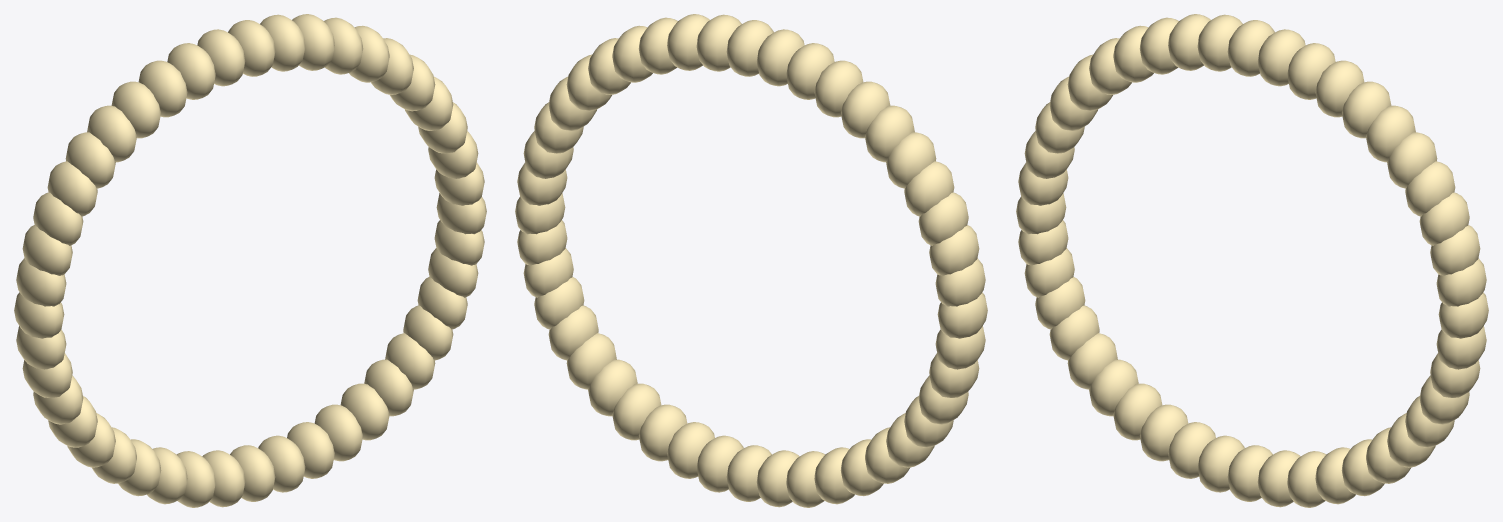
The model's file is goal-clear.glb.
3 renders of one model, left to right at view 1: azimuth 30°, elevation 25°; view 2: azimuth 150°, elevation 25°; view 3: azimuth 330°, elevation 25°, orthographic.
Parts seen in each view (by area): view 1: goal-clear-15, goal-clear-16, goal-clear-14, goal-clear-17, goal-clear-13, goal-clear-18, goal-clear-12, goal-clear-36, goal-clear-37, goal-clear-35, goal-clear-38, goal-clear-19 (+32 smaller); view 2: goal-clear-15, goal-clear-16, goal-clear-14, goal-clear-17, goal-clear-13, goal-clear-18, goal-clear-12, goal-clear-36, goal-clear-37, goal-clear-35, goal-clear-38, goal-clear-19 (+32 smaller); view 3: goal-clear-7, goal-clear-6, goal-clear-8, goal-clear-5, goal-clear-9, goal-clear-4, goal-clear-10, goal-clear-30, goal-clear-29, goal-clear-31, goal-clear-28, goal-clear-3 (+32 smaller).
Boxes of the visible parts, x1,y1,x2,y2 form: goal-clear-15: (111,81,160,138); goal-clear-16: (87,105,136,162); goal-clear-14: (138,60,187,117); goal-clear-17: (65,132,115,188); goal-clear-13: (167,43,215,99); goal-clear-18: (47,161,97,216); goal-clear-12: (197,29,245,86); goal-clear-36: (314,404,362,461); goal-clear-37: (340,383,389,440); goal-clear-35: (287,422,334,478); goal-clear-38: (364,359,413,416); goal-clear-19: (33,192,83,245); goal-clear-15: (841,81,890,138); goal-clear-16: (865,105,914,162); goal-clear-14: (814,60,863,117); goal-clear-17: (886,132,936,188); goal-clear-13: (786,43,834,99); goal-clear-18: (904,161,954,216); goal-clear-12: (756,29,804,86); goal-clear-36: (639,404,687,461); goal-clear-37: (612,383,661,440); goal-clear-35: (667,422,714,478); goal-clear-38: (588,359,637,416); goal-clear-19: (918,192,968,245); goal-clear-7: (1342,81,1391,138); goal-clear-6: (1366,105,1415,162); goal-clear-8: (1315,60,1364,117); goal-clear-5: (1387,132,1437,188); goal-clear-9: (1287,43,1335,99); goal-clear-4: (1405,161,1455,216); goal-clear-10: (1257,29,1305,86); goal-clear-30: (1140,404,1188,461); goal-clear-29: (1113,383,1162,440); goal-clear-31: (1168,422,1215,478); goal-clear-28: (1089,359,1138,416); goal-clear-3: (1419,192,1469,245).
Size of the model in its own units: 5.68 by 5.6 by 0.7.
